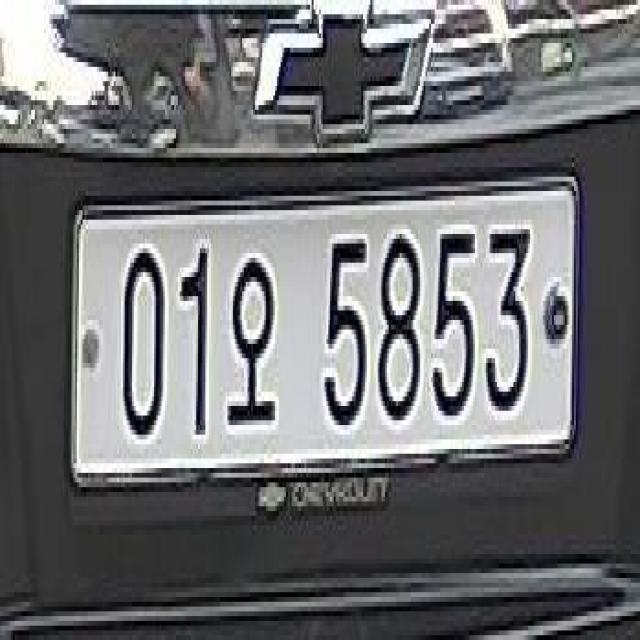illegal_plate: (71, 169, 585, 523)
